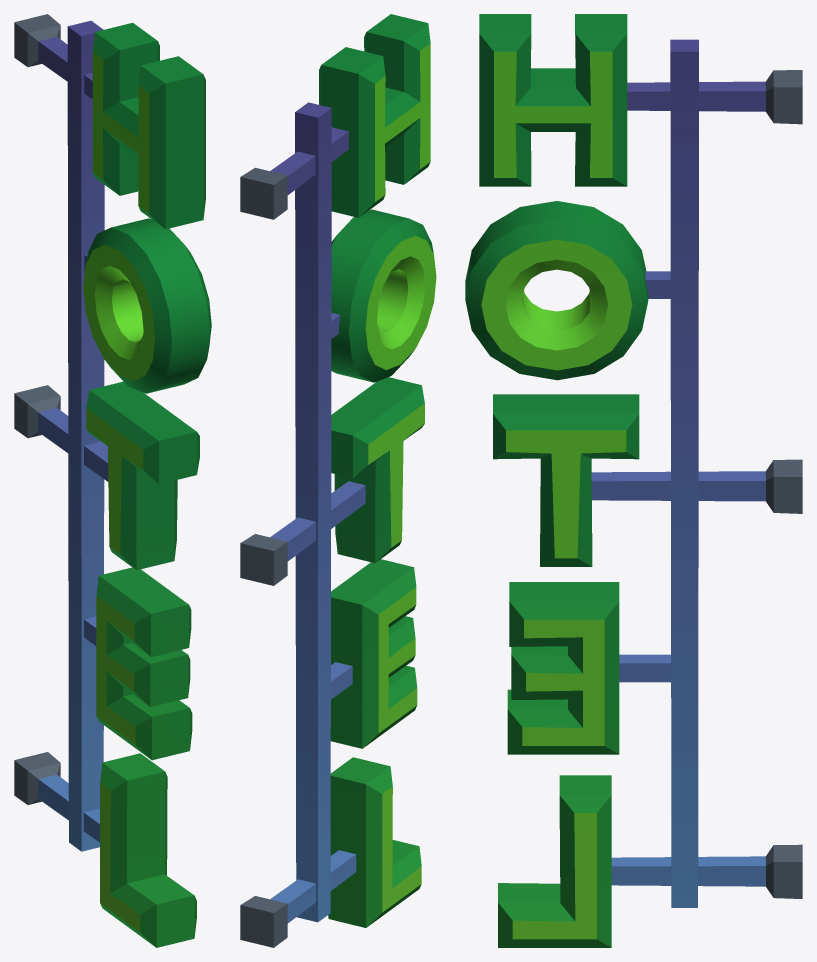
File: HotelSign_3_A.fbx
3 views of the same model, side by side, from view 1: azimuth 30°, elevation 25°; view 2: azimuth 150°, elevation 25°; view 3: azimuth 270°, elevation 25° (orthographic). The views are drawn at different scales.
Visible parts, largest first — view 1: HotelSign_3_A; view 2: HotelSign_3_A; view 3: HotelSign_3_A.
Boxes of the visible parts, x1,y1,x2,y2 form: HotelSign_3_A: (14, 14, 211, 947); HotelSign_3_A: (240, 14, 436, 947); HotelSign_3_A: (465, 14, 802, 947).
Bounding box in the file's own units: 49.61 × 729 × 244.
